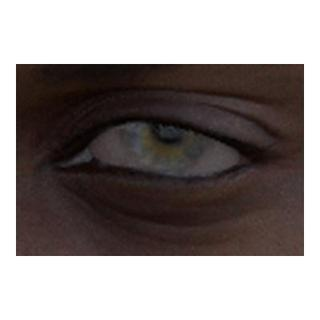pupil: (154, 113, 183, 142)
